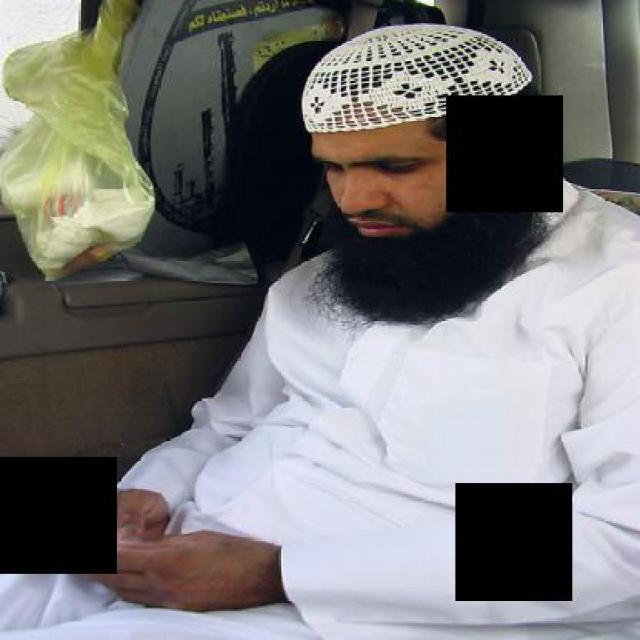plastic bag: (0, 0, 155, 280)
